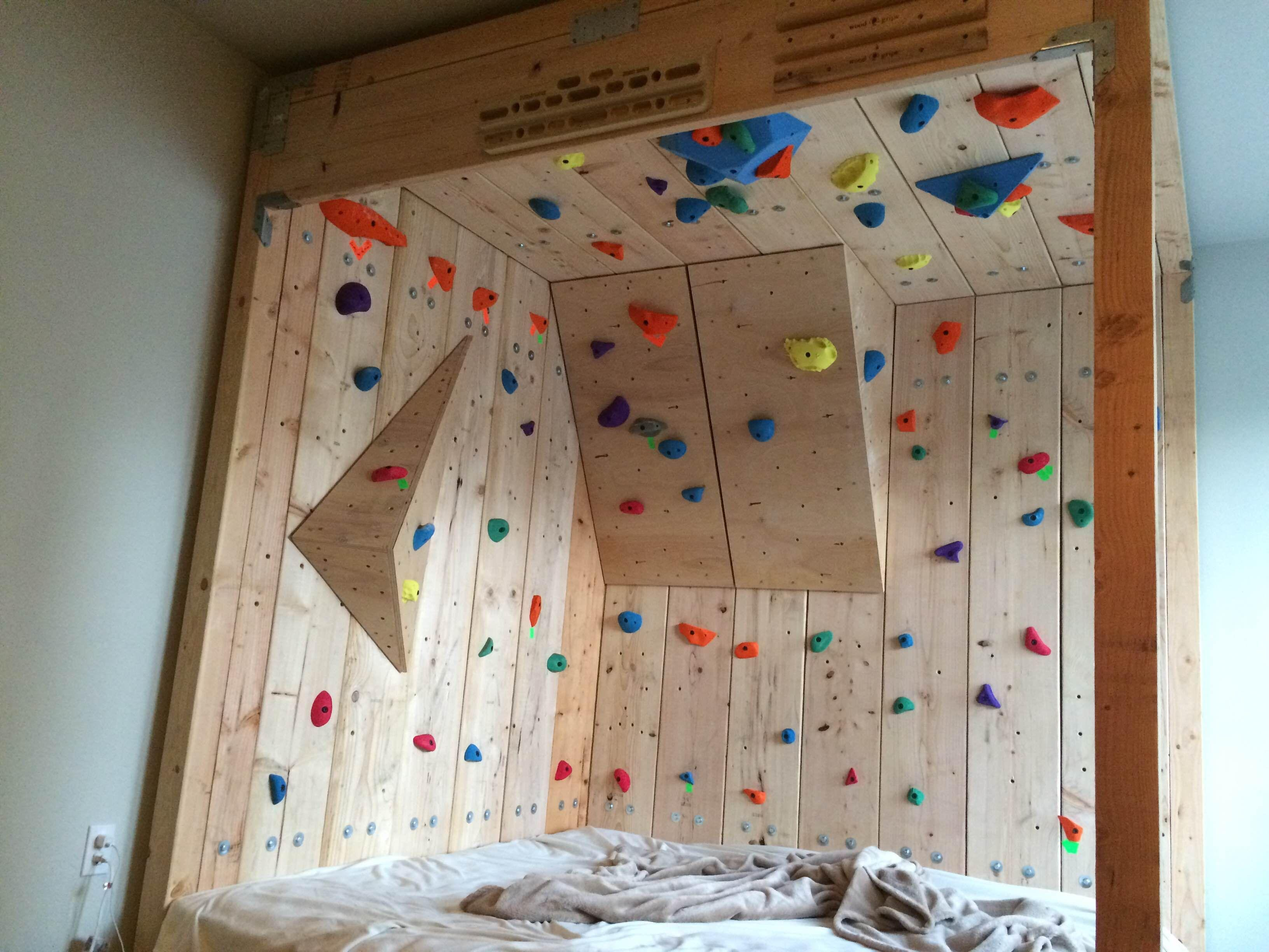black-hold: (312, 183, 415, 265), (827, 140, 890, 203), (974, 84, 1062, 129), (894, 87, 943, 140), (951, 176, 1002, 223), (701, 177, 755, 221), (623, 304, 679, 341), (717, 115, 764, 157), (783, 337, 838, 372), (594, 393, 637, 437), (680, 157, 728, 195), (426, 248, 464, 295), (332, 279, 374, 317), (524, 189, 565, 226), (1017, 624, 1054, 664), (349, 359, 386, 396), (1014, 445, 1053, 480), (756, 144, 794, 179), (1050, 812, 1088, 846), (674, 621, 718, 650), (404, 518, 439, 553), (628, 413, 670, 442), (467, 284, 501, 318), (481, 512, 514, 545), (805, 624, 836, 658), (1002, 179, 1034, 211), (690, 123, 725, 152), (932, 322, 962, 355), (974, 681, 1007, 711), (933, 534, 965, 563), (674, 198, 711, 223), (995, 193, 1024, 222), (522, 308, 552, 336), (1058, 213, 1094, 236), (310, 690, 332, 727), (496, 365, 522, 396), (853, 203, 885, 228), (370, 463, 409, 483), (589, 240, 626, 261), (863, 350, 887, 382), (589, 335, 618, 361), (1068, 499, 1093, 528), (616, 610, 644, 635), (554, 151, 587, 172), (268, 774, 288, 806), (747, 419, 776, 441), (895, 253, 932, 270), (545, 651, 570, 676), (658, 439, 687, 460), (612, 766, 633, 795), (553, 759, 576, 785), (476, 636, 499, 662), (642, 176, 669, 197), (1020, 507, 1047, 528), (903, 785, 927, 808), (896, 408, 917, 433), (740, 787, 767, 806), (907, 441, 929, 464), (412, 733, 437, 753), (985, 414, 1009, 433), (519, 417, 540, 438), (529, 595, 542, 628), (734, 642, 759, 659), (402, 580, 419, 605), (682, 486, 705, 503), (463, 743, 483, 762), (896, 631, 916, 650), (893, 697, 915, 714), (841, 766, 859, 786), (952, 207, 976, 222), (620, 501, 644, 515), (780, 727, 797, 745), (678, 771, 695, 785)
